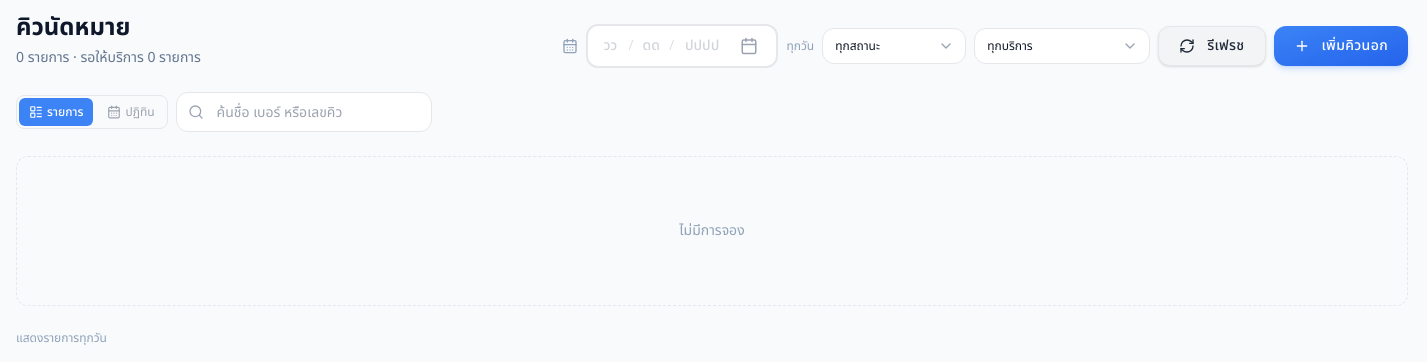
Scenario: search, service filter and pagination › says so plainly when nothing matches
The width and height of the screenshot is (1427, 362).
Expected: the text "ไม่มีการจอง" is shown, [16,156,1408,306]
In the field named "ค้นหาการจอง": (304, 112) [176,92,432,132], type "ไม่มีคนนี้"
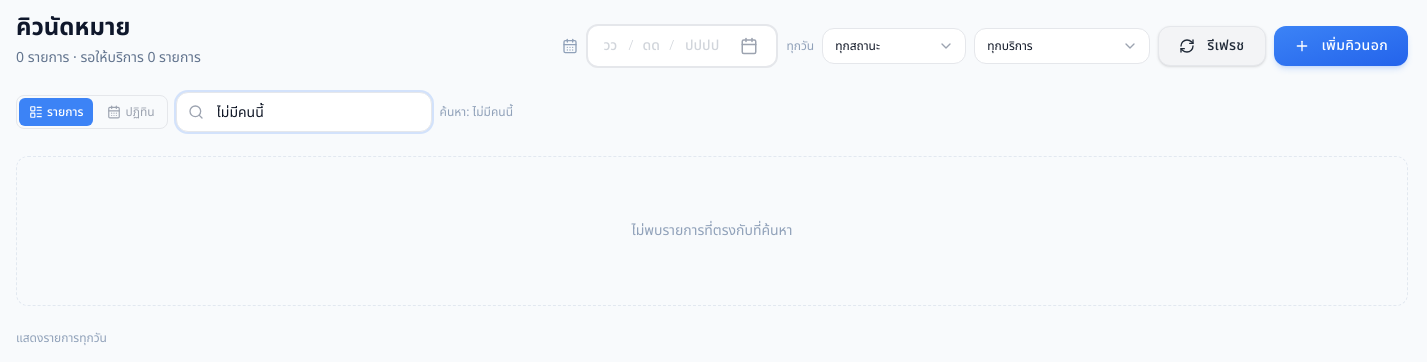
Now the text "ไม่พบรายการที่ตรงกับที่ค้นหา" is shown, box [16,156,1408,306]
